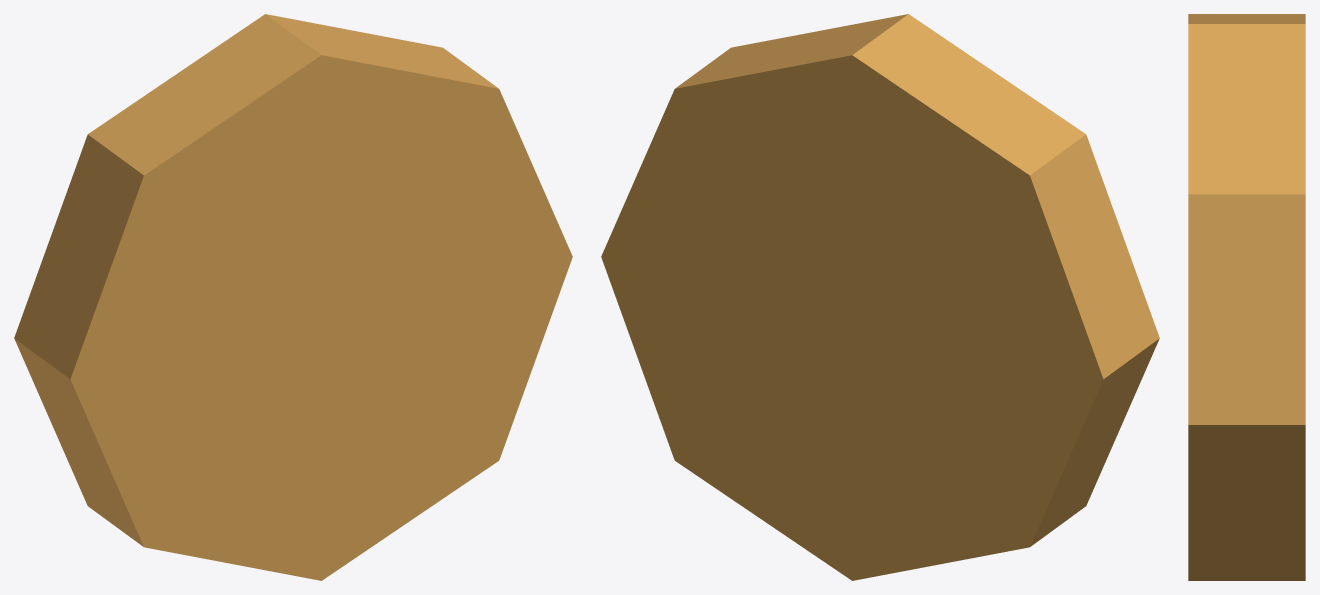
The model's file is Gear_Low.fbx.
3 views of the same model, side by side, from view 1: azimuth 30°, elevation 25°; view 2: azimuth 150°, elevation 25°; view 3: azimuth 270°, elevation 25° (orthographic). The views are drawn at different scales.
Parts seen in each view (by area): view 1: SM_LiftGear_Low; view 2: SM_LiftGear_Low; view 3: SM_LiftGear_Low.
Boxes of the visible parts, left/top/right/bottom form: SM_LiftGear_Low: left=14, top=14, right=572, bottom=580; SM_LiftGear_Low: left=601, top=14, right=1159, bottom=580; SM_LiftGear_Low: left=1188, top=14, right=1305, bottom=580.
Size of the model in its own units: 206 by 40 by 206.
